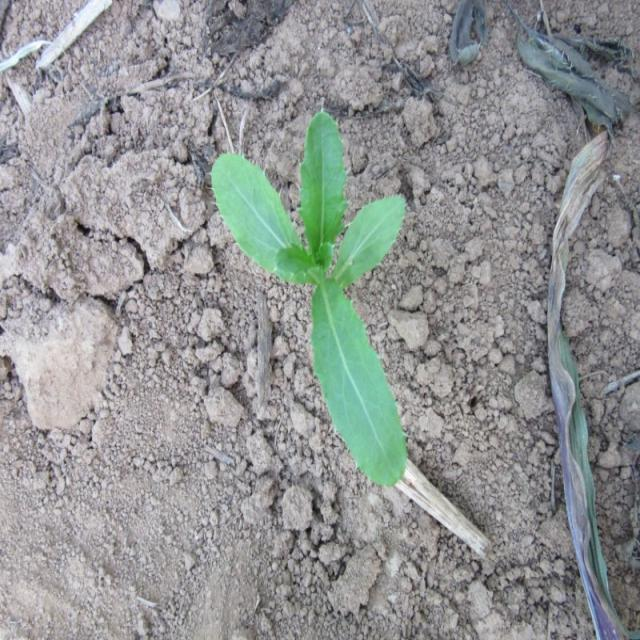cs: (208, 107, 408, 488)
